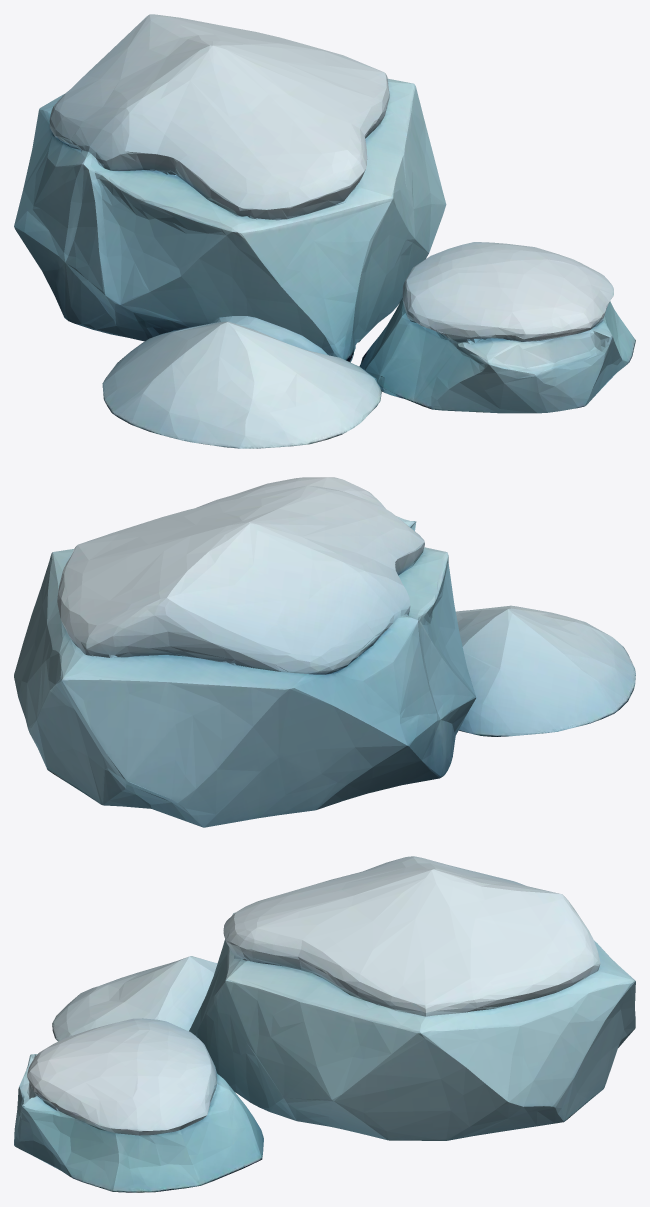
File: frost_rock_cluster.glb
The picture shows the model from 3 angles, top to bottom: view 1: azimuth 30°, elevation 25°; view 2: azimuth 150°, elevation 25°; view 3: azimuth 270°, elevation 25°; orthographic projection. The views are drawn at different scales.
Visible parts, largest first — view 1: world; view 2: world; view 3: world.
Part boxes in pixels (box(x1,y1,x2,y2)): world: box(14, 14, 635, 448); world: box(14, 477, 635, 827); world: box(14, 856, 635, 1192).
Bounding box in the file's own units: 0.7992 × 0.3685 × 0.9838.
1 material, 1 textured.
